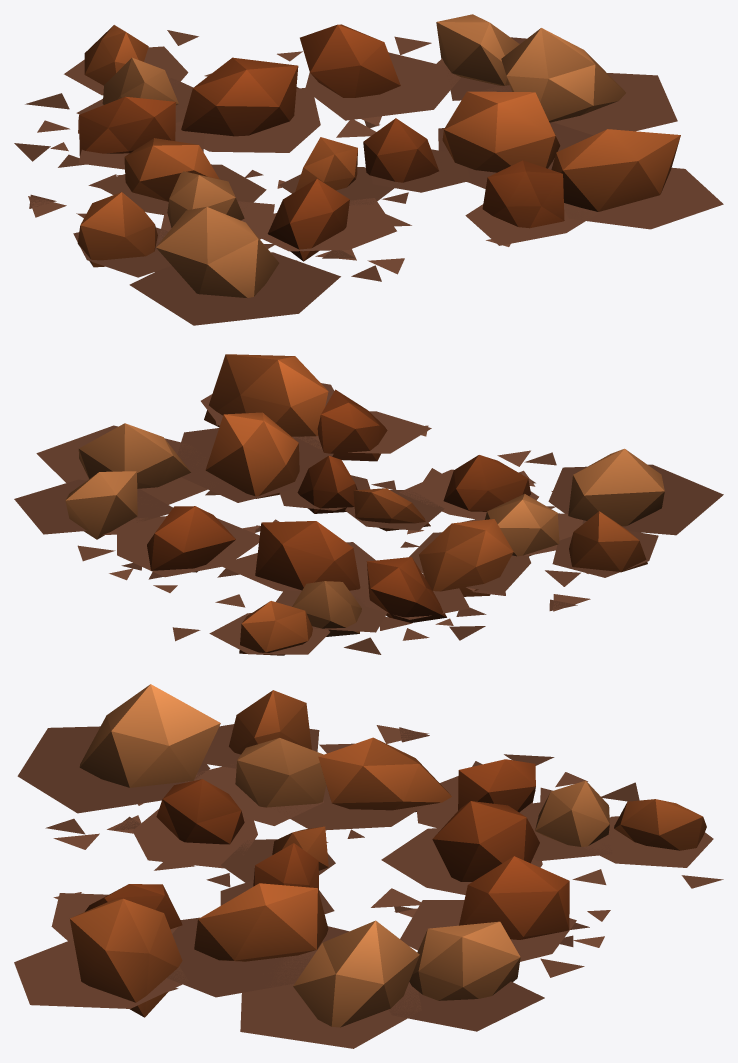
File: copper-ore-rich.glb
3 views of the same model, one above another, from view 1: azimuth 30°, elevation 25°; view 2: azimuth 150°, elevation 25°; view 3: azimuth 270°, elevation 25° (orthographic). The views are drawn at different scales.
Visible parts, largest first — view 1: copper-ore-rich; view 2: copper-ore-rich; view 3: copper-ore-rich.
Part boxes in pixels (bbox=[...]): copper-ore-rich: bbox=[14, 14, 723, 325]; copper-ore-rich: bbox=[14, 354, 723, 655]; copper-ore-rich: bbox=[14, 684, 723, 1048].
Size of the model in its own units: 1.66 by 0.2168 by 1.52.
